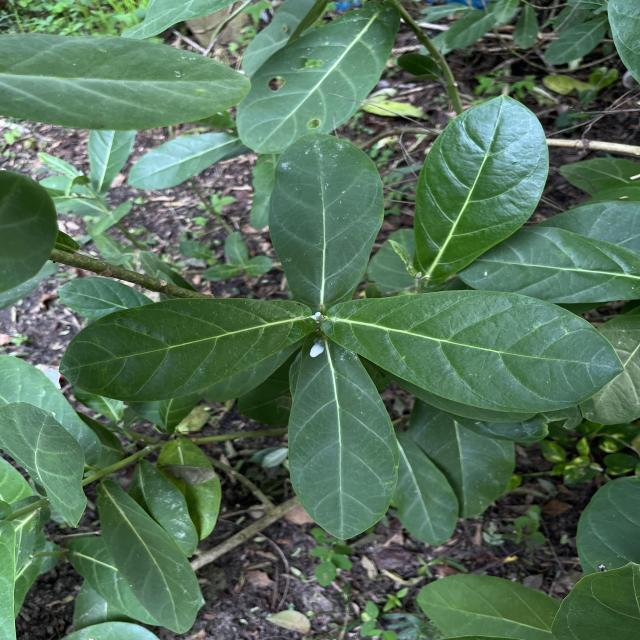Calotropis gigantea: (319, 288, 630, 414), (58, 296, 316, 404), (412, 92, 551, 290), (0, 33, 256, 133), (236, 0, 395, 156), (286, 333, 401, 542), (266, 130, 386, 310), (458, 224, 640, 304)
